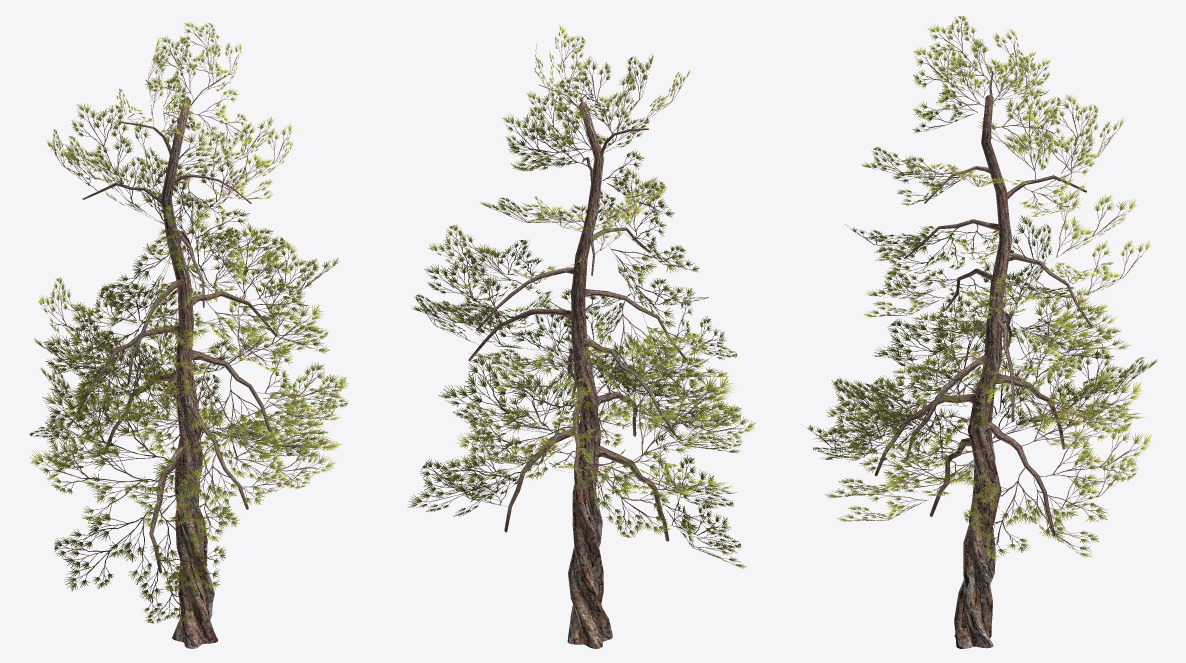
File: pine01.obj
The picture shows the model from 3 angles, left to right: view 1: azimuth 30°, elevation 25°; view 2: azimuth 150°, elevation 25°; view 3: azimuth 270°, elevation 25°; orthographic projection.
Visible parts, largest first — view 1: tree; view 2: tree; view 3: tree.
Boxes of the visible parts, bbox=[...] form: tree: bbox=[29, 21, 348, 648]; tree: bbox=[407, 24, 755, 648]; tree: bbox=[801, 16, 1157, 648].
Bounding box in the file's own units: 159 × 280 × 155.
Materials: 2 (2 with a texture image).
